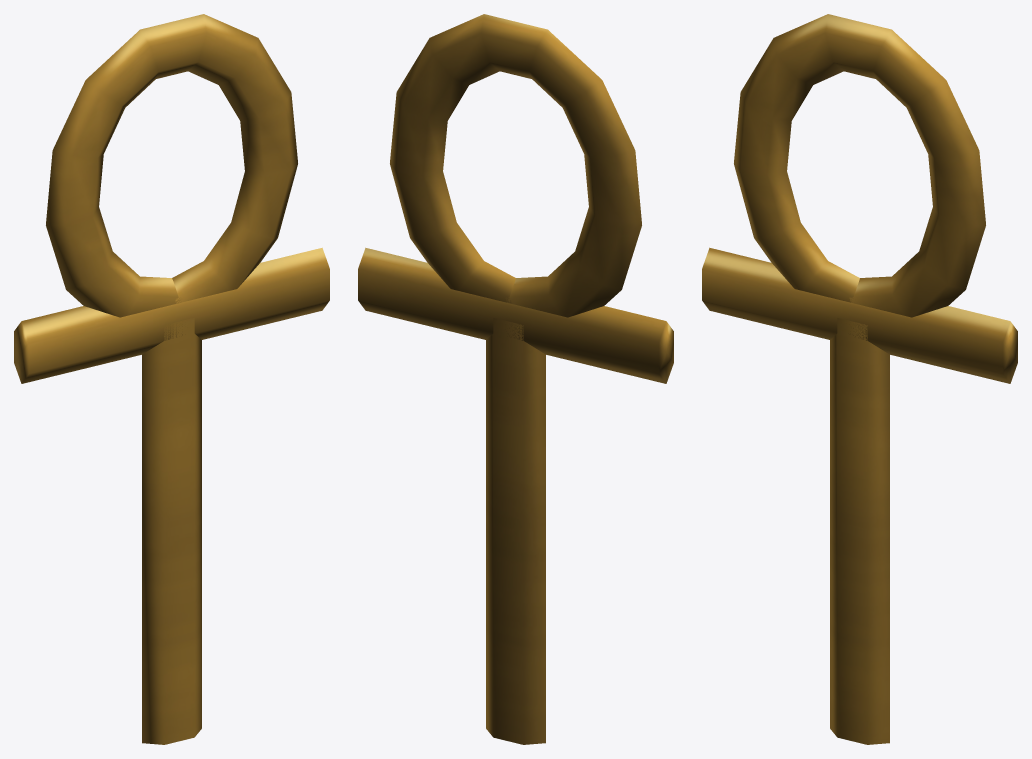
Rendered from ankh.glb.
3 views of the same model, side by side, from view 1: azimuth 30°, elevation 25°; view 2: azimuth 150°, elevation 25°; view 3: azimuth 330°, elevation 25° (orthographic).
Parts seen in each view (by area): view 1: ankh; view 2: ankh; view 3: ankh.
Boxes of the visible parts, x1,y1,x2,y2 form: ankh: (14,14,329,744); ankh: (358,14,673,744); ankh: (702,14,1017,744).
Bounding box in the file's own units: 0.18 × 0.4081 × 0.0156.
Materials: 1 (1 with a texture image).
